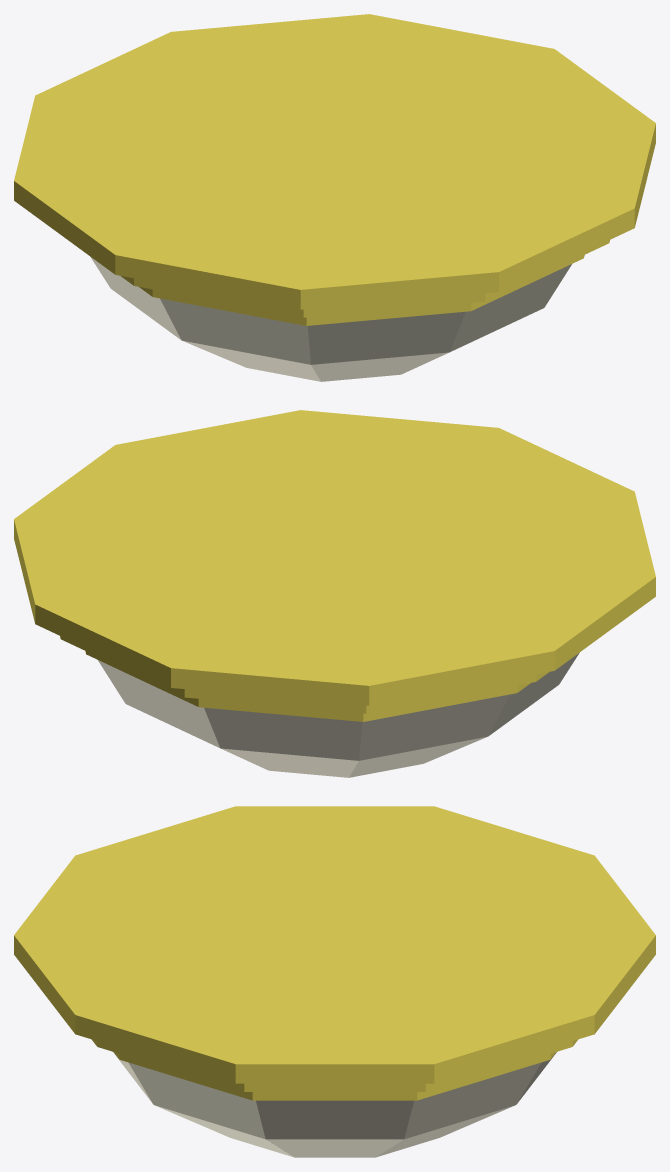
Rendered from lamp.fbx.
The picture shows the model from 3 angles, top to bottom: view 1: azimuth 30°, elevation 25°; view 2: azimuth 150°, elevation 25°; view 3: azimuth 270°, elevation 25°; orthographic projection. The views are drawn at different scales.
Parts seen in each view (by area): view 1: Lamp; view 2: Lamp; view 3: Lamp.
Part boxes in pixels (left/top/right/bottom): Lamp: left=14, top=14, right=655, bottom=381; Lamp: left=14, top=410, right=655, bottom=777; Lamp: left=14, top=806, right=655, bottom=1157.
Size of the model in its own units: 95.11 by 36.82 by 100.
